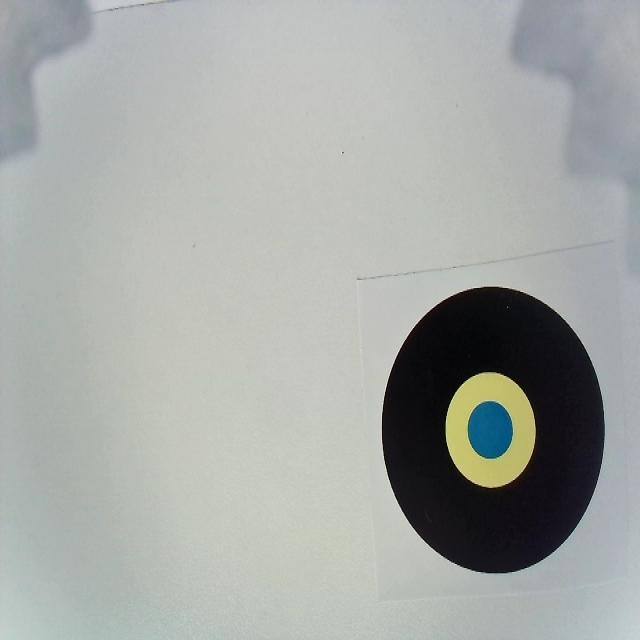cogn: (381, 287, 606, 575)
